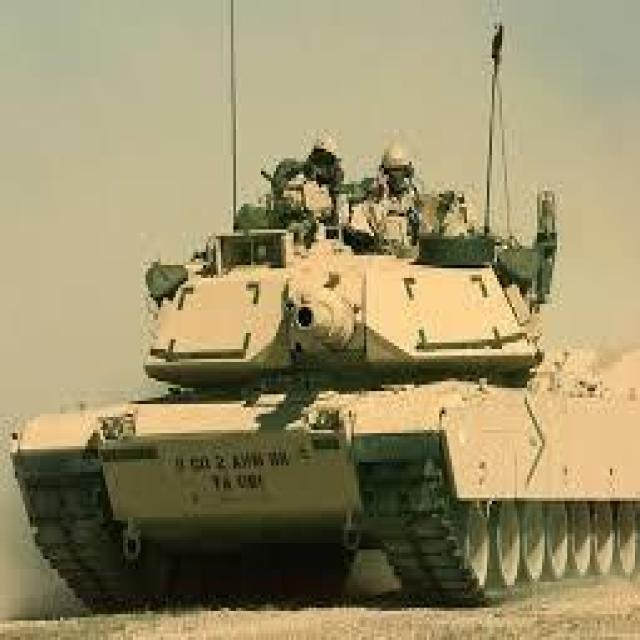Tanks: (2, 48, 625, 608)
